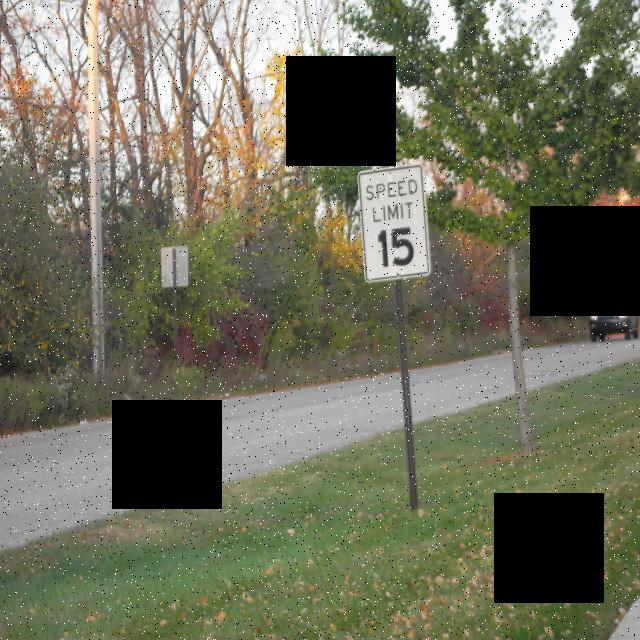regulatory: (360, 164, 428, 280)
